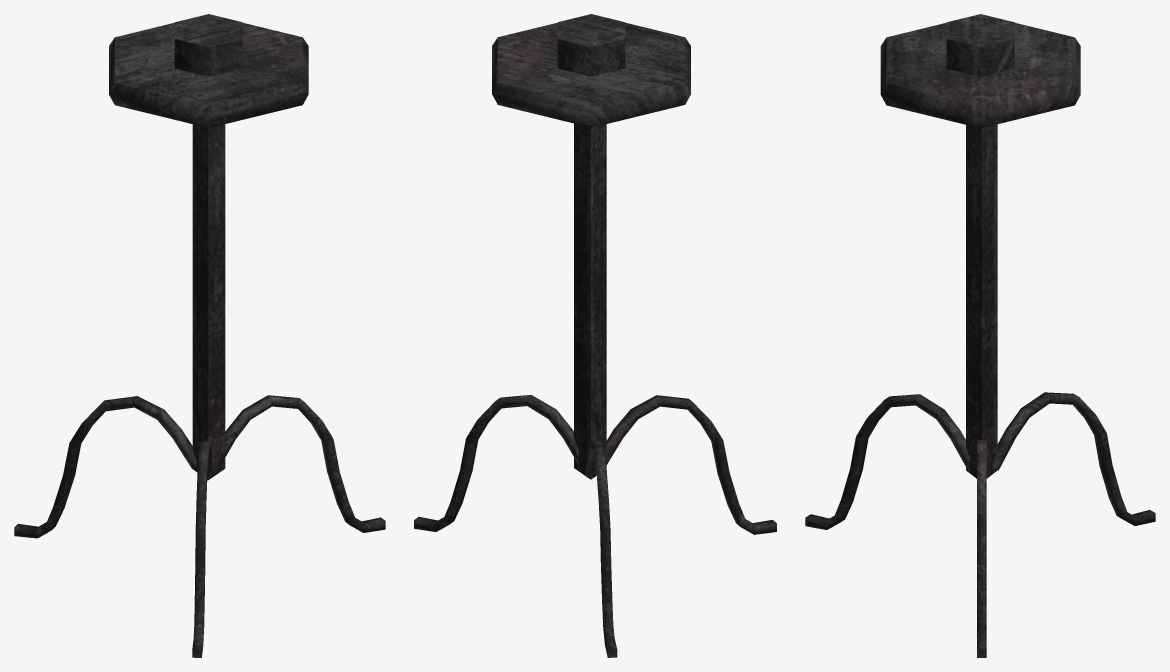
File: M_Home_Garden_candle_holder_02.fbx
The picture shows the model from 3 angles, left to right: view 1: azimuth 30°, elevation 25°; view 2: azimuth 150°, elevation 25°; view 3: azimuth 270°, elevation 25°; orthographic projection.
Parts seen in each view (by area): view 1: M_Home_Garden_candle_holder_02; view 2: M_Home_Garden_candle_holder_02; view 3: M_Home_Garden_candle_holder_02.
Part boxes in pixels (<box>): M_Home_Garden_candle_holder_02: <box>14,14,385,657</box>; M_Home_Garden_candle_holder_02: <box>414,14,776,657</box>; M_Home_Garden_candle_holder_02: <box>805,14,1155,657</box>.
Bounding box in the file's own units: 62.4 × 113 × 66.16.
